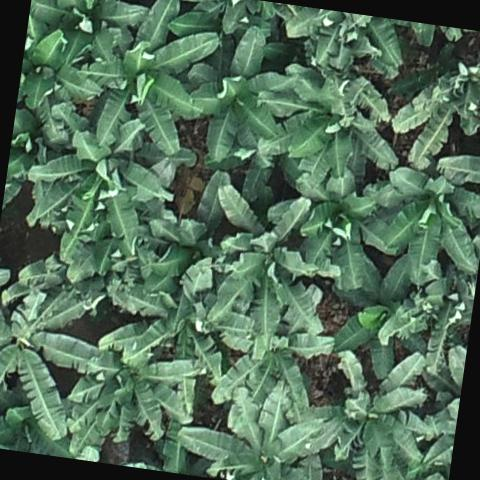Banana-plant: (20, 103, 186, 272), (71, 0, 224, 161), (201, 184, 342, 357), (59, 329, 198, 473), (0, 271, 110, 444), (257, 55, 406, 180), (179, 18, 299, 171), (206, 284, 339, 420), (308, 346, 441, 480), (172, 368, 327, 480), (105, 253, 239, 381), (285, 166, 412, 294), (140, 162, 252, 302), (323, 260, 438, 382), (377, 160, 480, 291), (374, 254, 478, 379), (11, 26, 109, 156), (394, 39, 480, 180), (31, 0, 150, 78)
